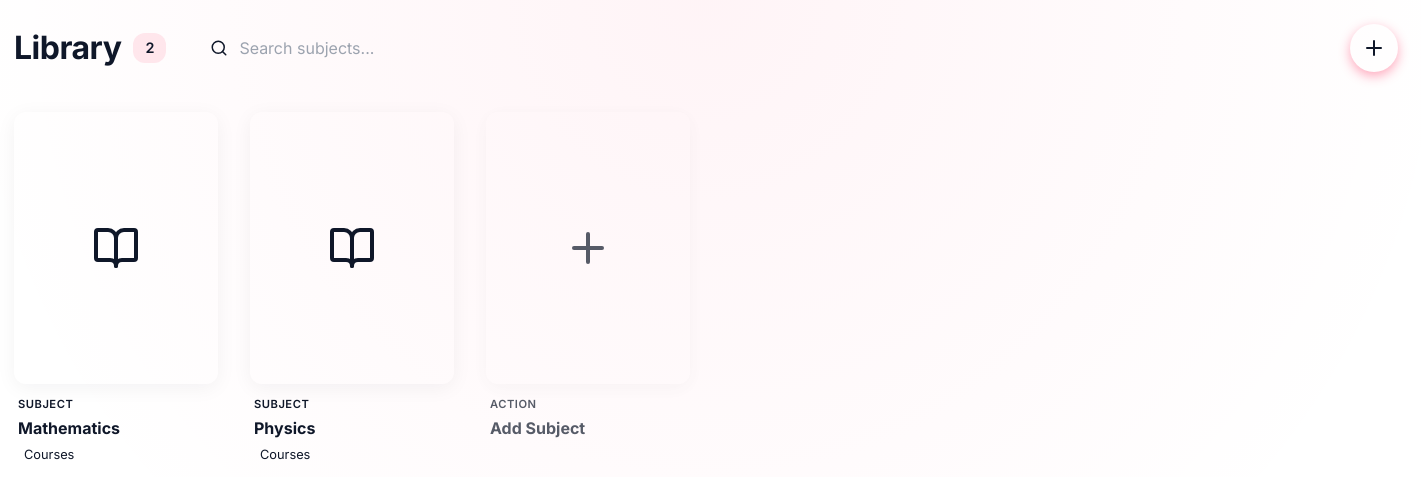
Test case: Subjects Page › filters subjects by search term
The image size is (1421, 477).
Expected: the heading "Mathematics" is shown, [18, 418, 120, 438]
Type "Math" into the field with placeholder "Search subjects..." at point(348, 48), box [198, 25, 498, 71]
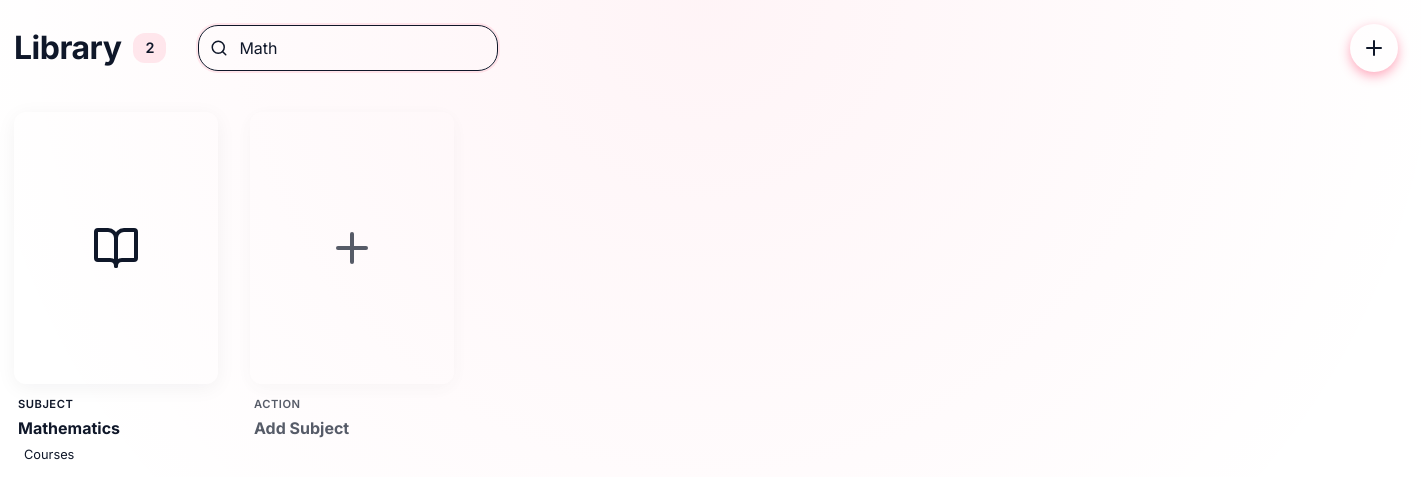
Expected: the heading "Mathematics" is shown, [18, 418, 120, 438]
Now the heading "Physics" is gone
